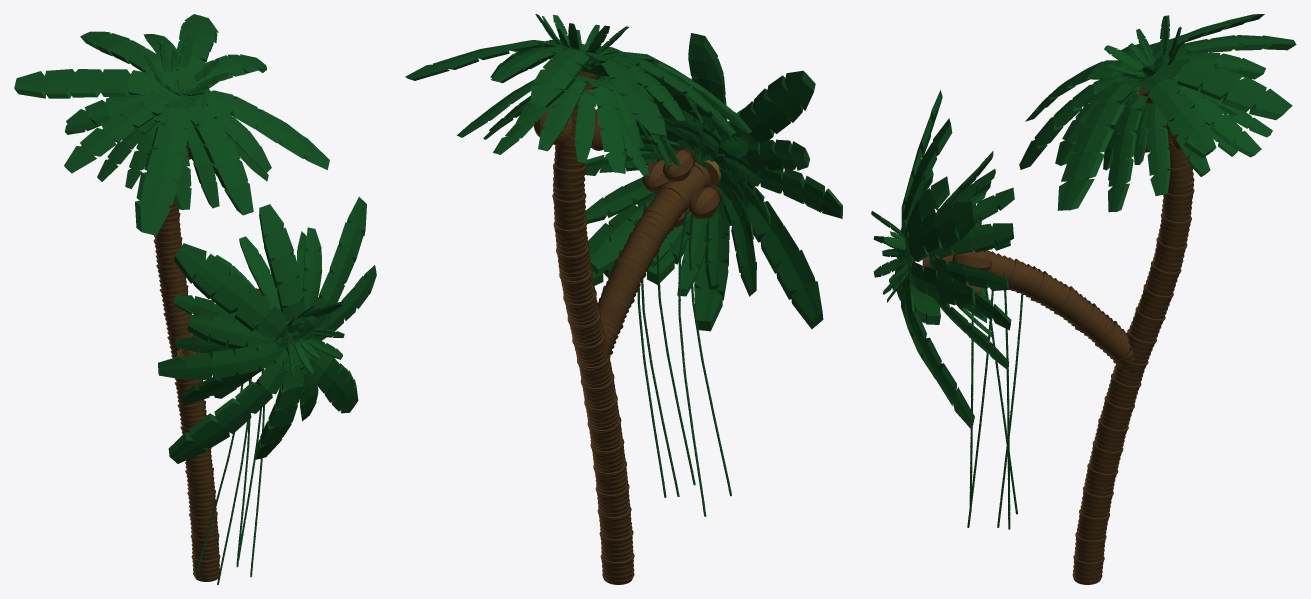
Rendered from palma3.fbx.
3 views of the same model, side by side, from view 1: azimuth 30°, elevation 25°; view 2: azimuth 150°, elevation 25°; view 3: azimuth 270°, elevation 25° (orthographic). The views are drawn at different scales.
Visible parts, largest first — view 1: Cylinder.008; view 2: Cylinder.008; view 3: Cylinder.008.
Boxes of the visible parts, x1,y1,x2,y2 form: Cylinder.008: [14, 14, 376, 584]; Cylinder.008: [405, 14, 842, 584]; Cylinder.008: [871, 14, 1296, 584].
Bounding box in the file's own units: 1265 × 2576 × 1798.
